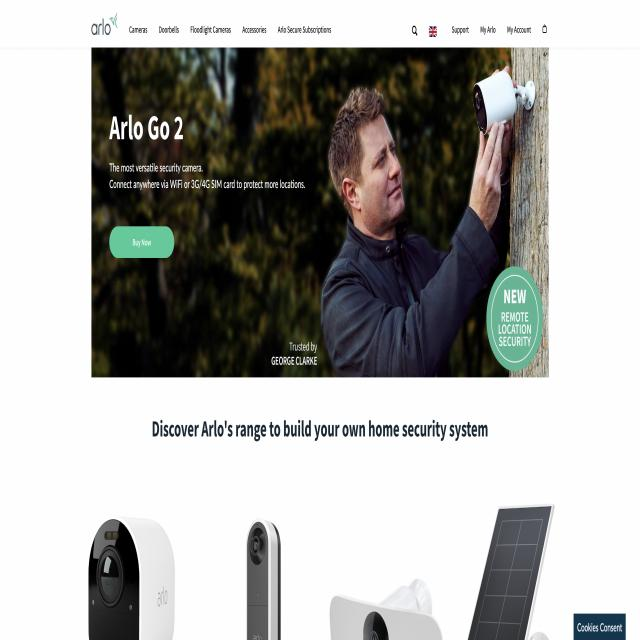Logo: (88, 9, 122, 43)
Navigation: (126, 7, 550, 46)
